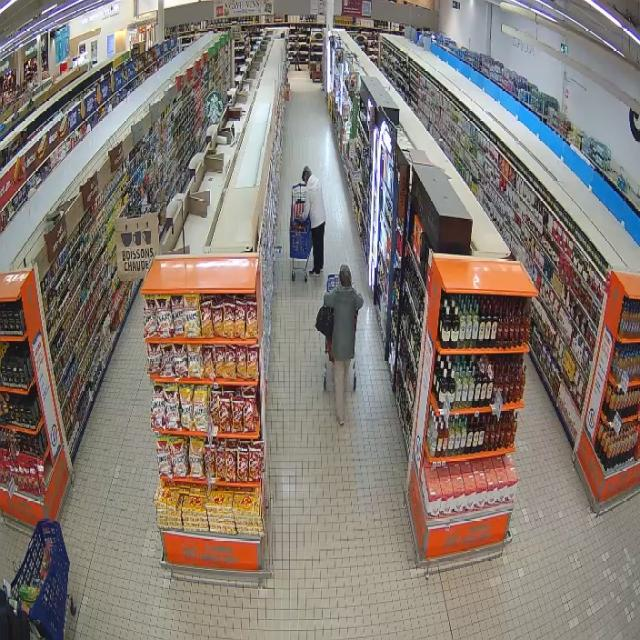bags: (316, 306, 333, 338)
hands: (21, 603, 30, 615)
person: (324, 265, 363, 425), (302, 166, 326, 275), (0, 590, 28, 639)
